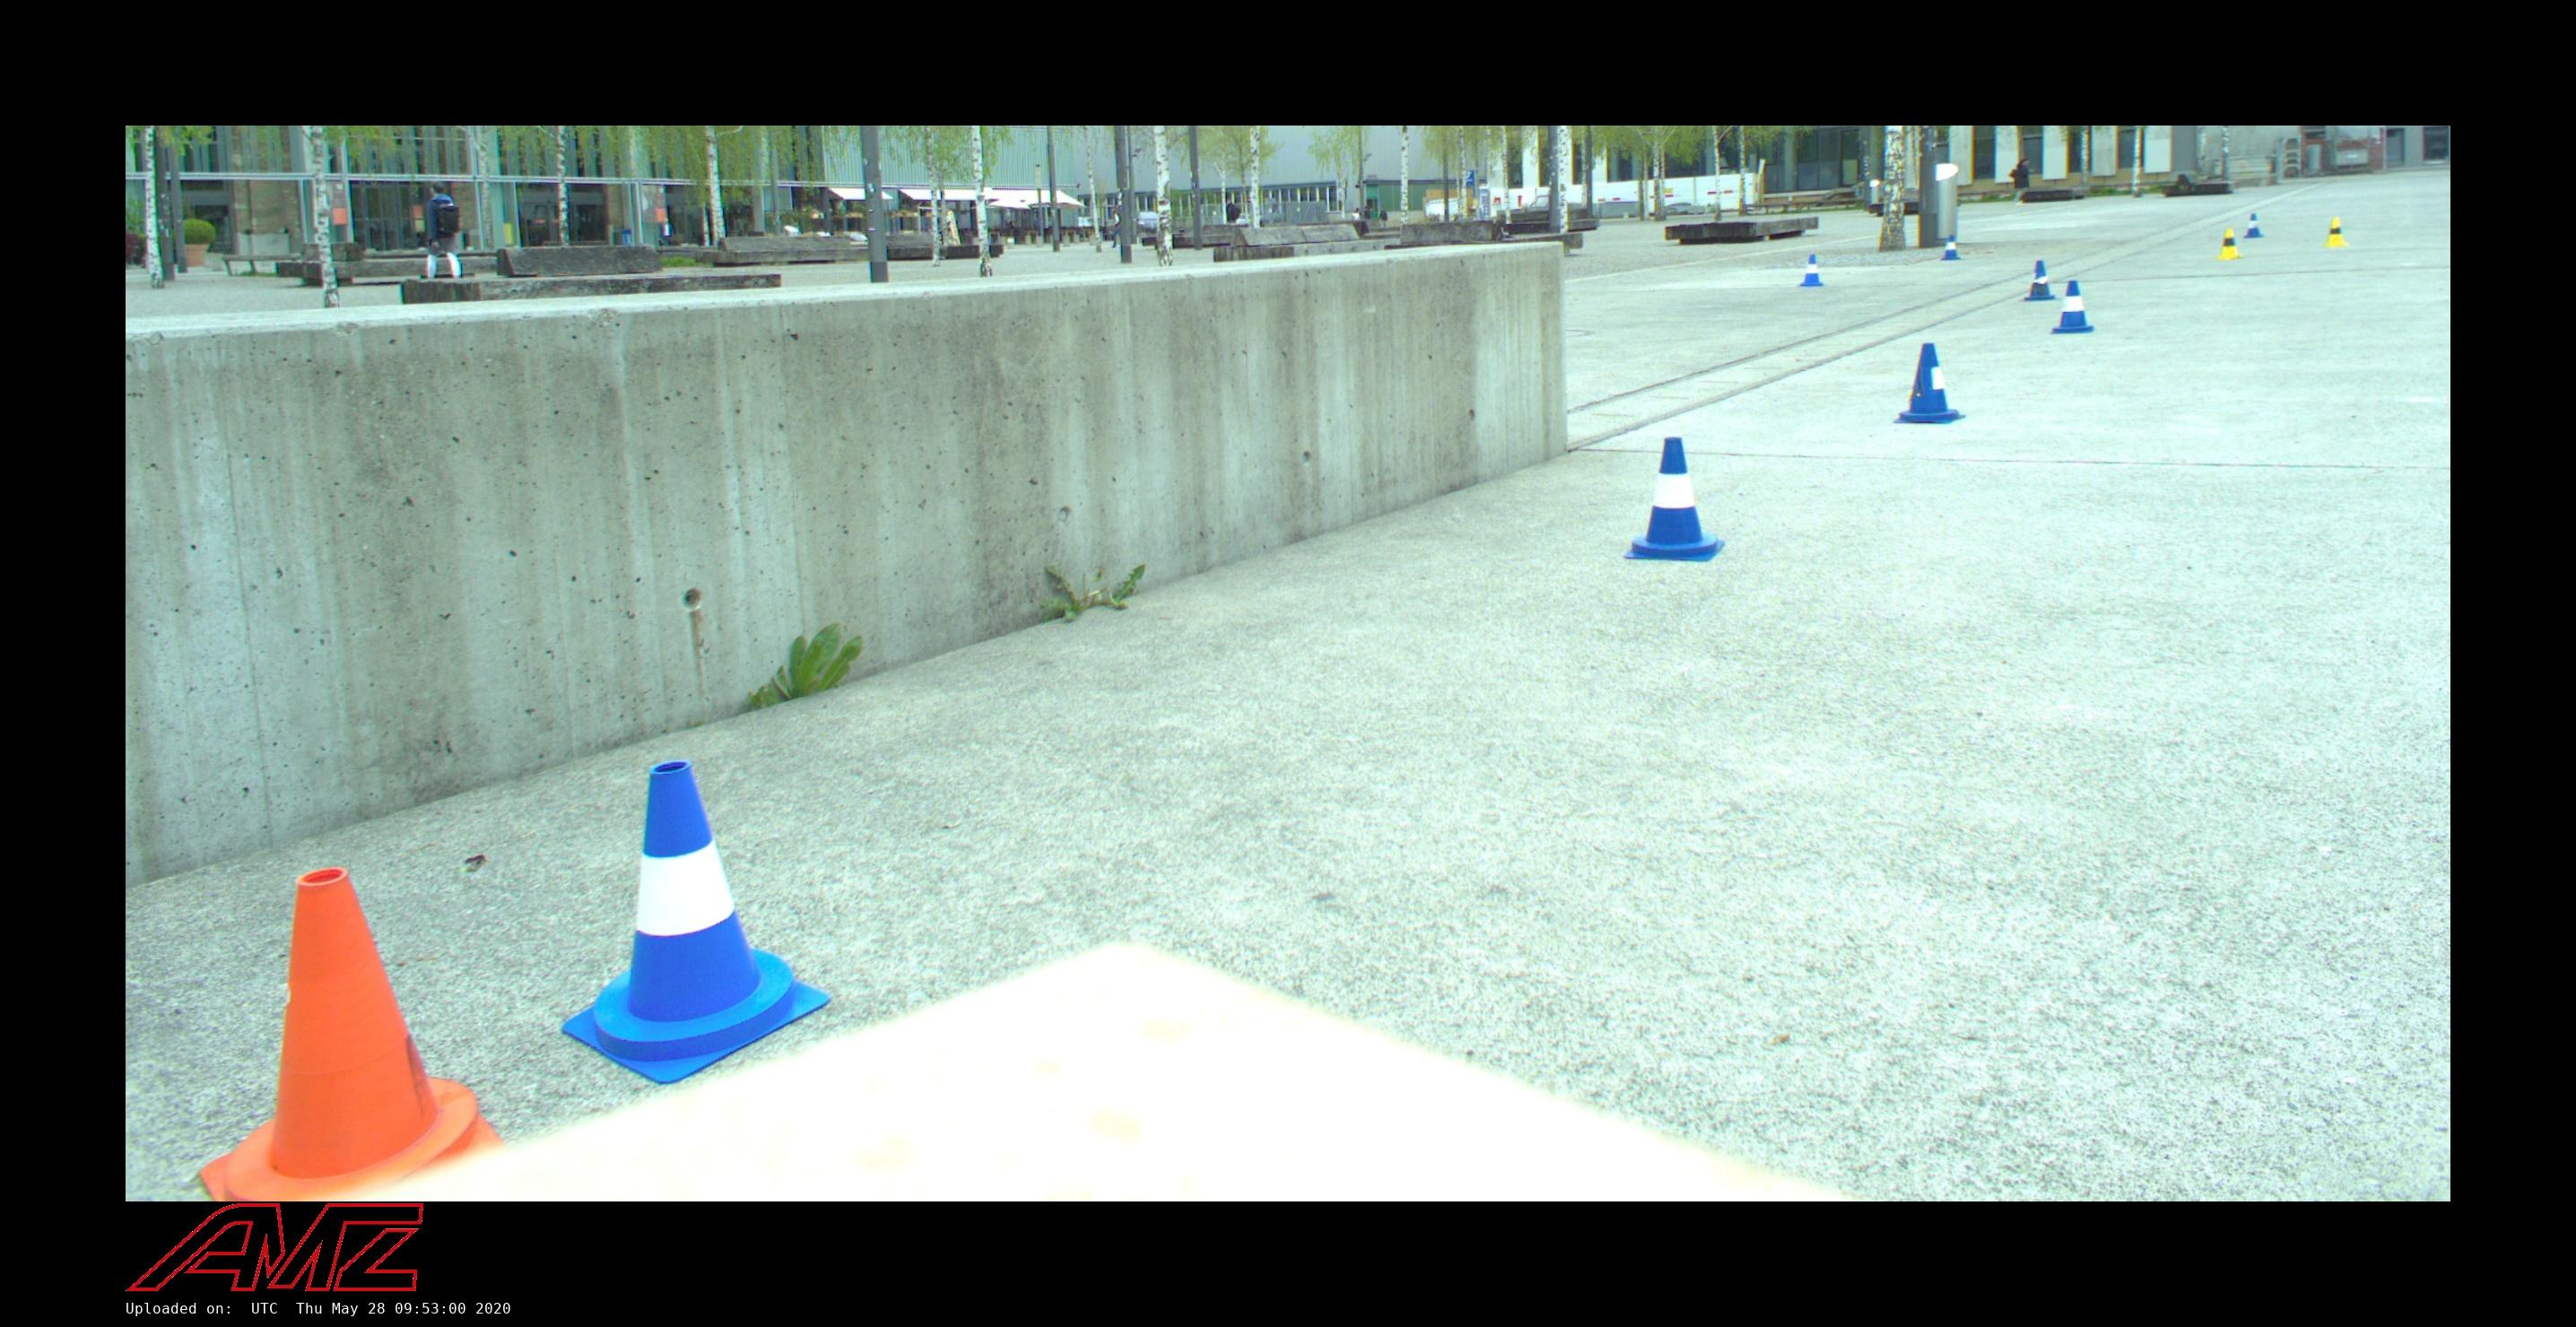blue_cone: (559, 763, 829, 1083), (1623, 435, 1726, 562), (1894, 342, 1963, 425), (2050, 279, 2094, 335), (2024, 261, 2055, 301), (1799, 254, 1823, 288), (2243, 213, 2263, 237), (1941, 235, 1960, 261)
orange_cone: (208, 872, 479, 1195)
yellow_cone: (2214, 229, 2243, 259), (2324, 217, 2349, 247)
